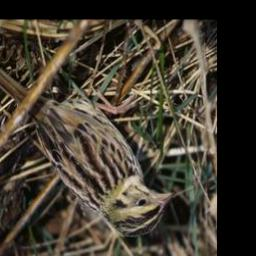Sparrow: (0, 50, 177, 242)
